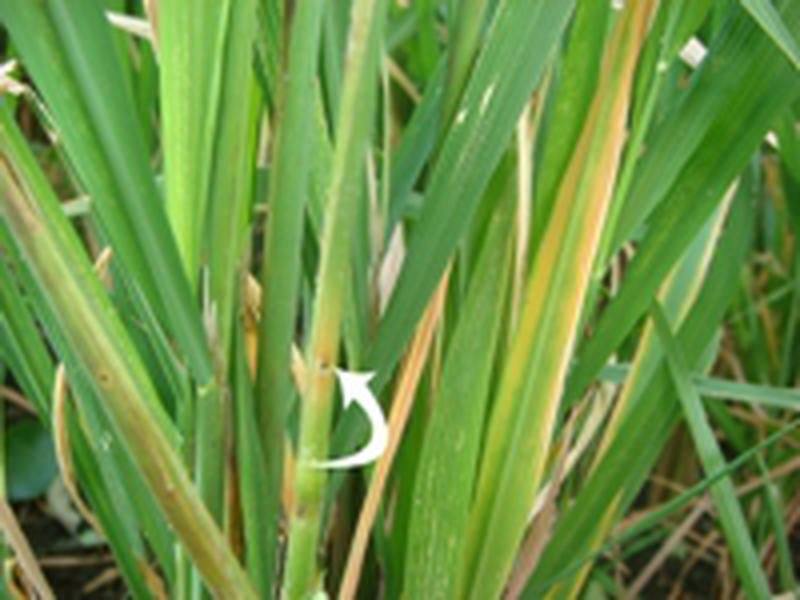Rice_skipper: (234, 253, 337, 420)
